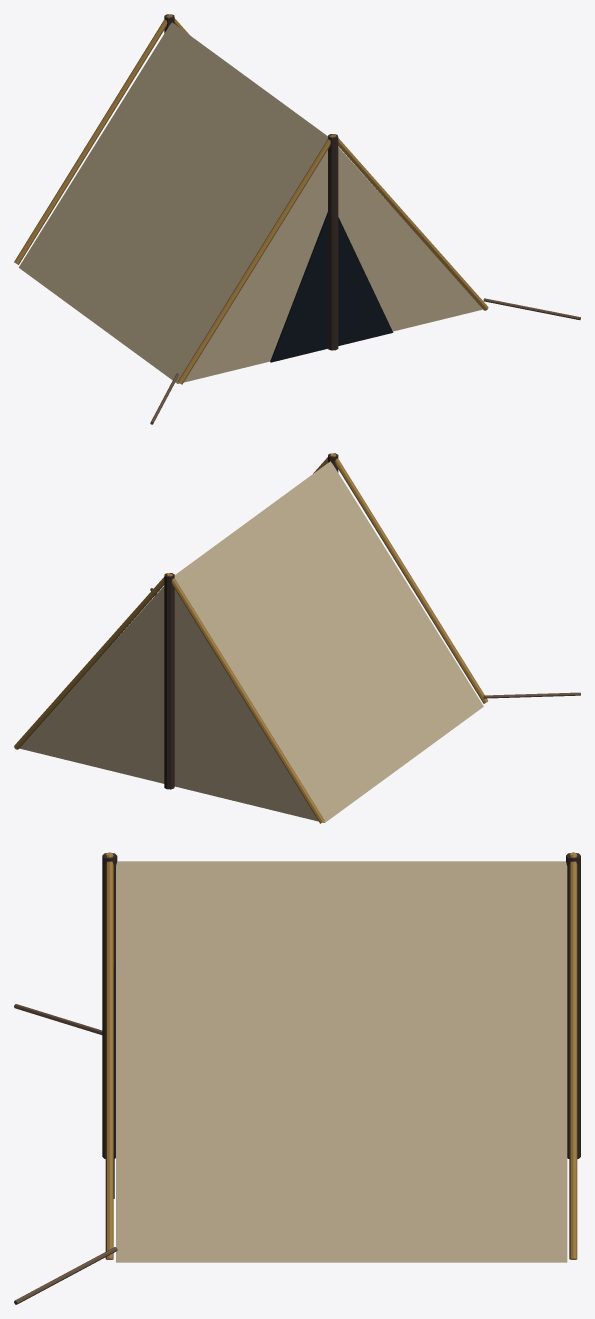
File: tent.glb
3 views of the same model, one above another, from view 1: azimuth 30°, elevation 25°; view 2: azimuth 150°, elevation 25°; view 3: azimuth 270°, elevation 25° (orthographic). The views are drawn at different scales.
Parts seen in each view (by area): view 1: tent; view 2: tent; view 3: tent.
Boxes of the visible parts, x1,y1,x2,y2 form: tent: [14, 14, 580, 424]; tent: [14, 453, 580, 823]; tent: [14, 852, 580, 1304].
Bounding box in the file's own units: 5.63 × 2.67 × 4.52.
